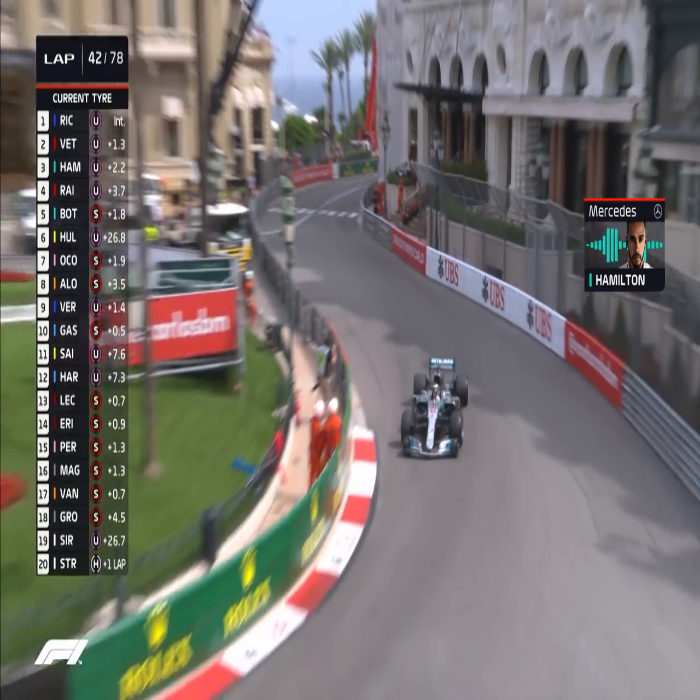f1_car: (390, 345, 479, 472)
